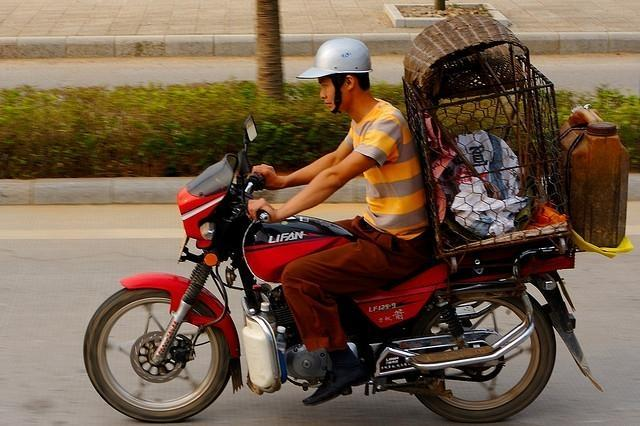motorcycle: (82, 114, 608, 425)
